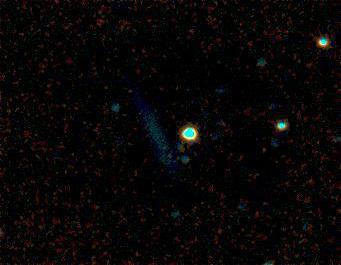star: (246, 137, 276, 167)
